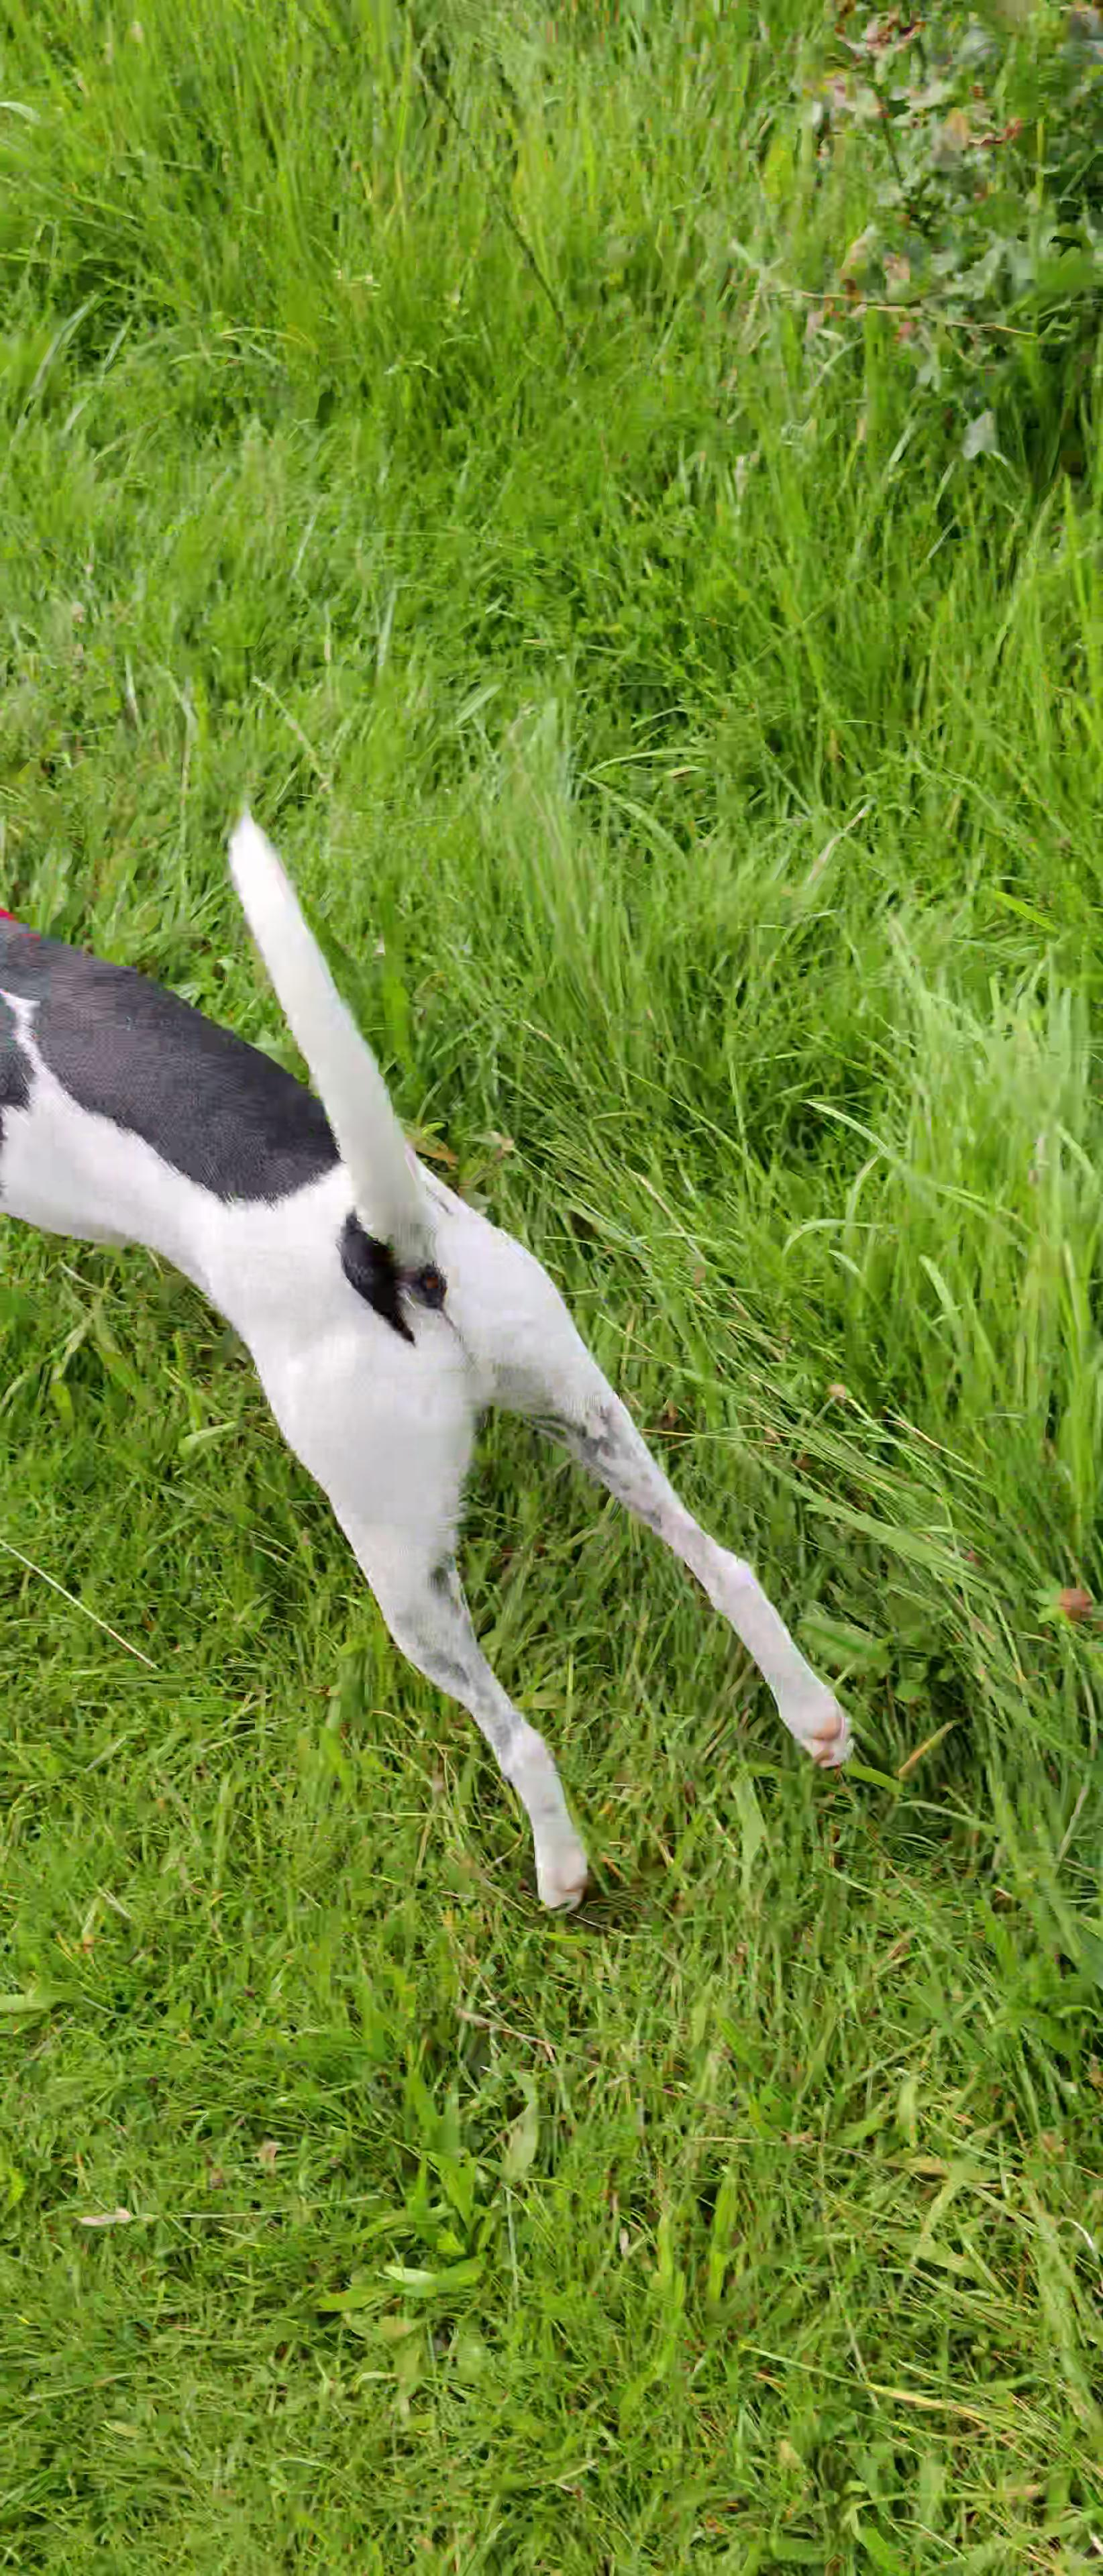Dog: (0, 782, 904, 1962)
